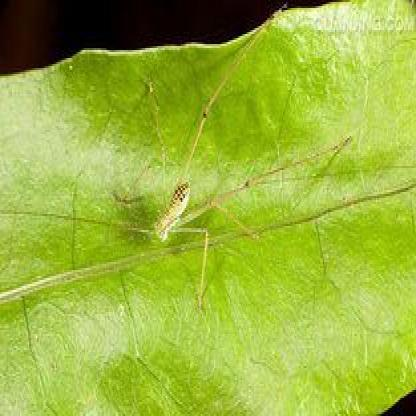aphid: (85, 71, 278, 295)
